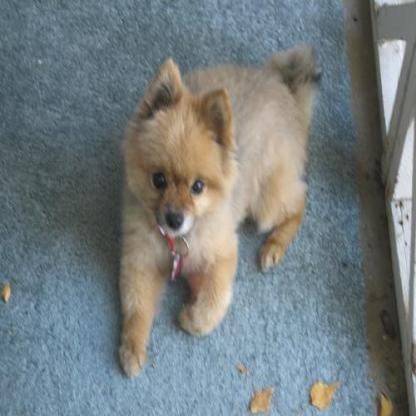Pomeranian: (119, 41, 323, 379)
